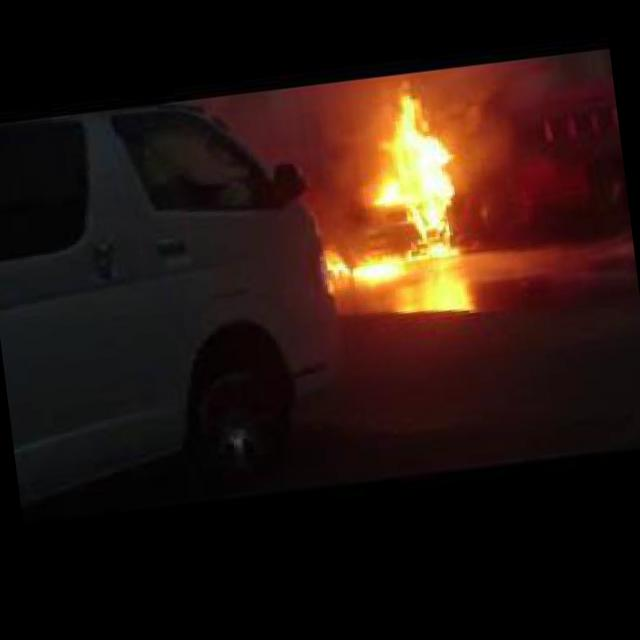fire: (362, 89, 466, 262), (320, 240, 402, 287)
